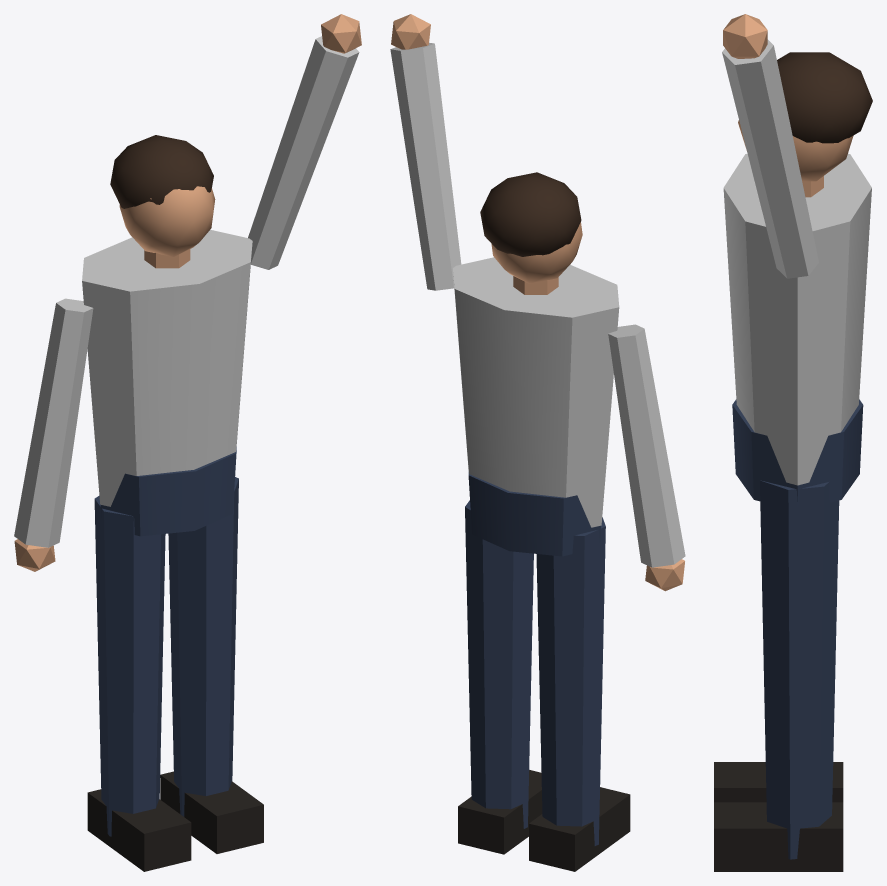
Rendered from person_b.fbx.
3 renders of one model, left to right at view 1: azimuth 30°, elevation 25°; view 2: azimuth 150°, elevation 25°; view 3: azimuth 270°, elevation 25°, orthographic. The views are drawn at different scales.
Parts seen in each view (by area): view 1: person_b; view 2: person_b; view 3: person_b.
Boxes of the visible parts, box(x1,y1,x2,y2) form: person_b: box(14, 14, 361, 871); person_b: box(390, 14, 685, 871); person_b: box(714, 14, 872, 871).
Bounding box in the file's own units: 0.8784 × 2.09 × 0.332.
